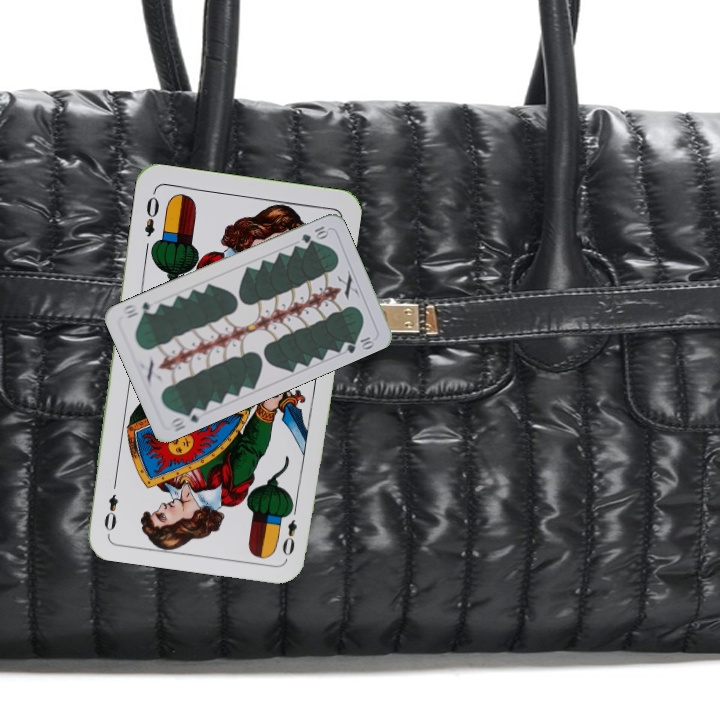EO: (278, 500, 300, 558), (140, 188, 162, 240)
G10: (166, 404, 206, 435), (297, 222, 331, 246)
